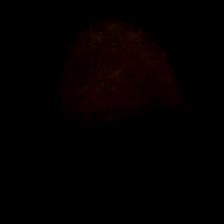fertile: (52, 14, 180, 170)
